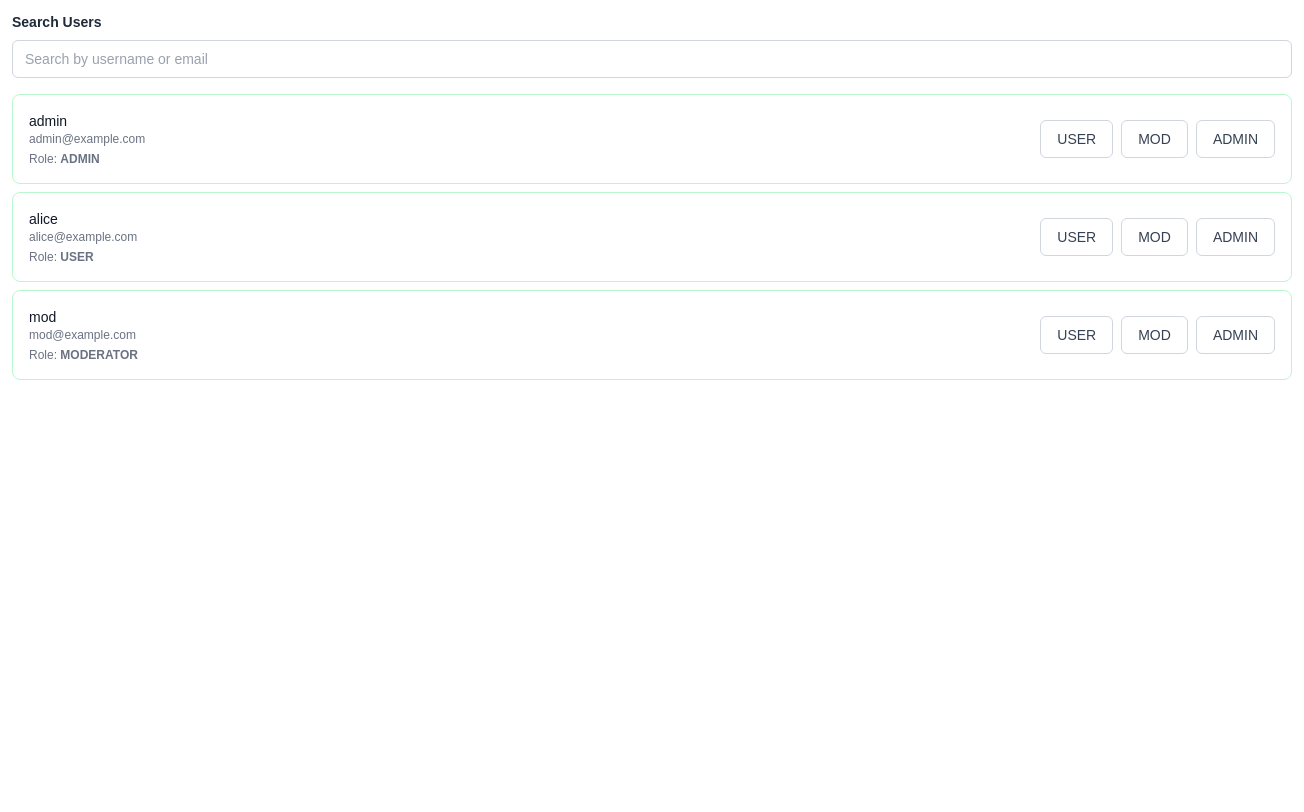
it: UserManagementTab › shows error when updateUserRole fails
The width and height of the screenshot is (1304, 812).
Click the button with test id "change-role-user-2" at (1077, 237), box top-left (1040, 218), bottom-right (1113, 256)
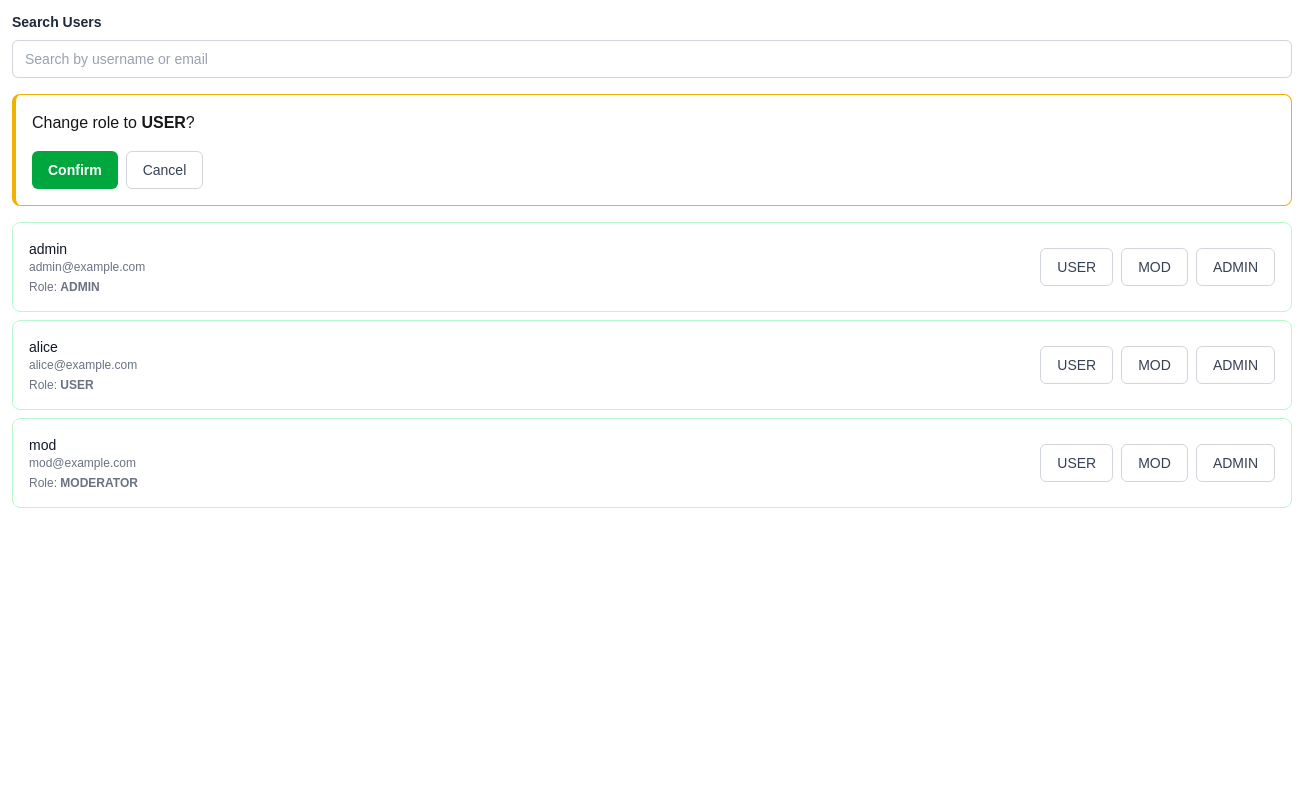
Click the button with test id "confirm-role-button" at (75, 170), box top-left (32, 151), bottom-right (118, 189)
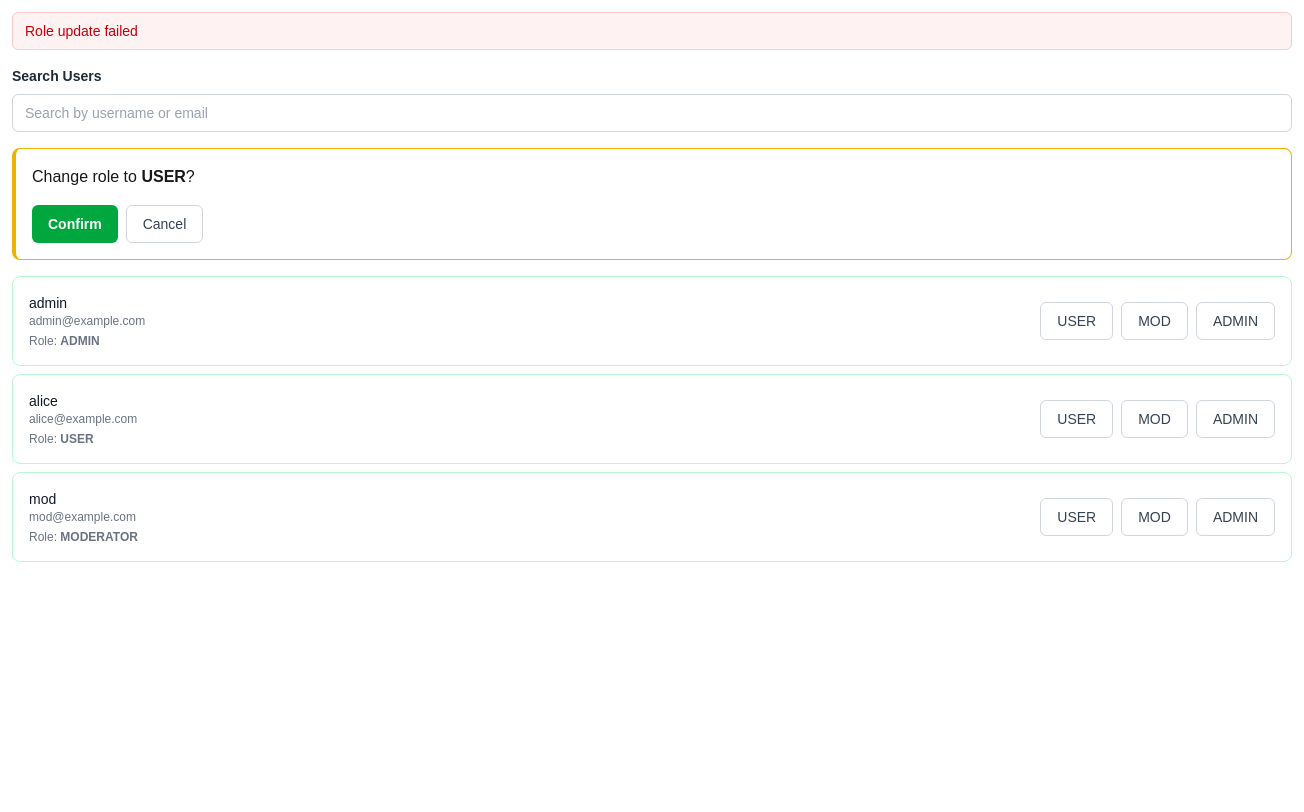
Now the text with test id "user-management-error" reads "Role update failed", box top-left (25, 23), bottom-right (138, 39)
